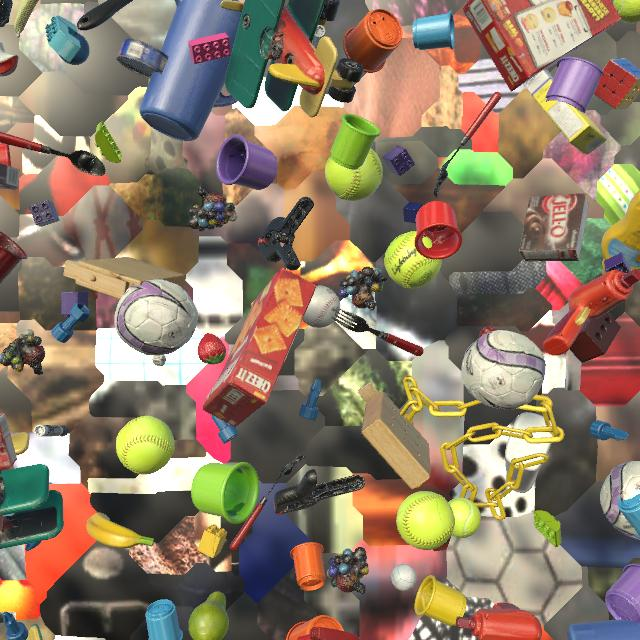ycb_003_cracker_box: (203, 268, 316, 428), (463, 0, 621, 91)
ycb_004_sugar_box: (523, 69, 607, 154)
ycb_006_mustard_bottle: (601, 190, 640, 275)
ycb_007_tuna_fish_can: (116, 38, 168, 79)
ycb_008_pudding_box: (519, 193, 589, 262), (0, 163, 20, 190)
ycb_009_gelatin_box: (0, 413, 17, 468)
ycb_011_banana: (87, 513, 154, 548)
ycb_012_strawberry: (198, 333, 226, 365)
ycb_016_pear: (188, 592, 229, 640)
